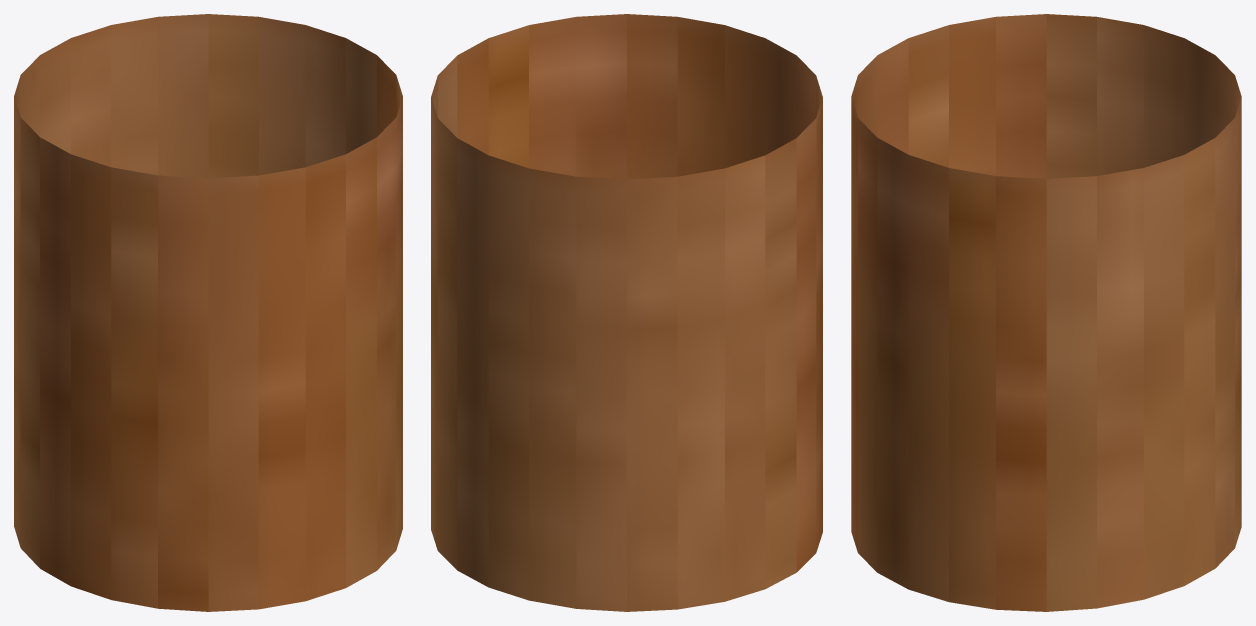
File: original-50.obj
The picture shows the model from 3 angles, left to right: view 1: azimuth 30°, elevation 25°; view 2: azimuth 150°, elevation 25°; view 3: azimuth 270°, elevation 25°; orthographic projection.
Parts seen in each view (by area): view 1: #ID240; view 2: #ID240; view 3: #ID240.
Boxes of the visible parts, x1,y1,x2,y2 form: #ID240: (14, 14, 402, 611); #ID240: (431, 14, 822, 611); #ID240: (851, 14, 1241, 611).
Bounding box in the file's own units: 0.0192 × 0.0236 × 0.0192.
